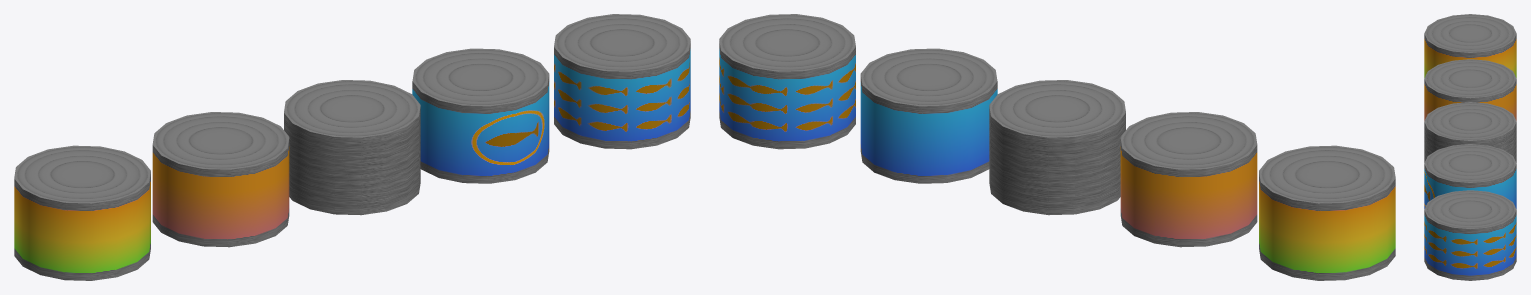
Rendered from tincanssketchfab.glb.
3 views of the same model, side by side, from view 1: azimuth 30°, elevation 25°; view 2: azimuth 150°, elevation 25°; view 3: azimuth 270°, elevation 25° (orthographic). The views are drawn at different scales.
Parts seen in each view (by area): view 1: tincangradient.001, tincanfish, tincangradient, tincan, tincanfish2; view 2: tincangradient.001, tincanfish, tincangradient, tincan, tincanfish2; view 3: tincanfish, tincanfish2, tincangradient, tincangradient.001, tincan.
Boxes of the visible parts, x1,y1,x2,y2 form: tincangradient.001: (152,112,289,247); tincanfish: (554,14,690,149); tincangradient: (14,145,150,280); tincan: (284,80,420,215); tincanfish2: (412,48,549,183); tincangradient.001: (1120,112,1257,247); tincanfish: (719,14,855,149); tincangradient: (1259,145,1395,280); tincan: (989,80,1125,215); tincanfish2: (860,48,997,183); tincanfish: (1424,190,1516,280); tincanfish2: (1424,144,1516,208); tincangradient: (1424,14,1516,77); tincangradient.001: (1424,59,1516,120); tincan: (1424,102,1516,162).
Bounding box in the file's own units: 3.52 × 0.3954 × 0.6386.
5 materials, 5 textured.
